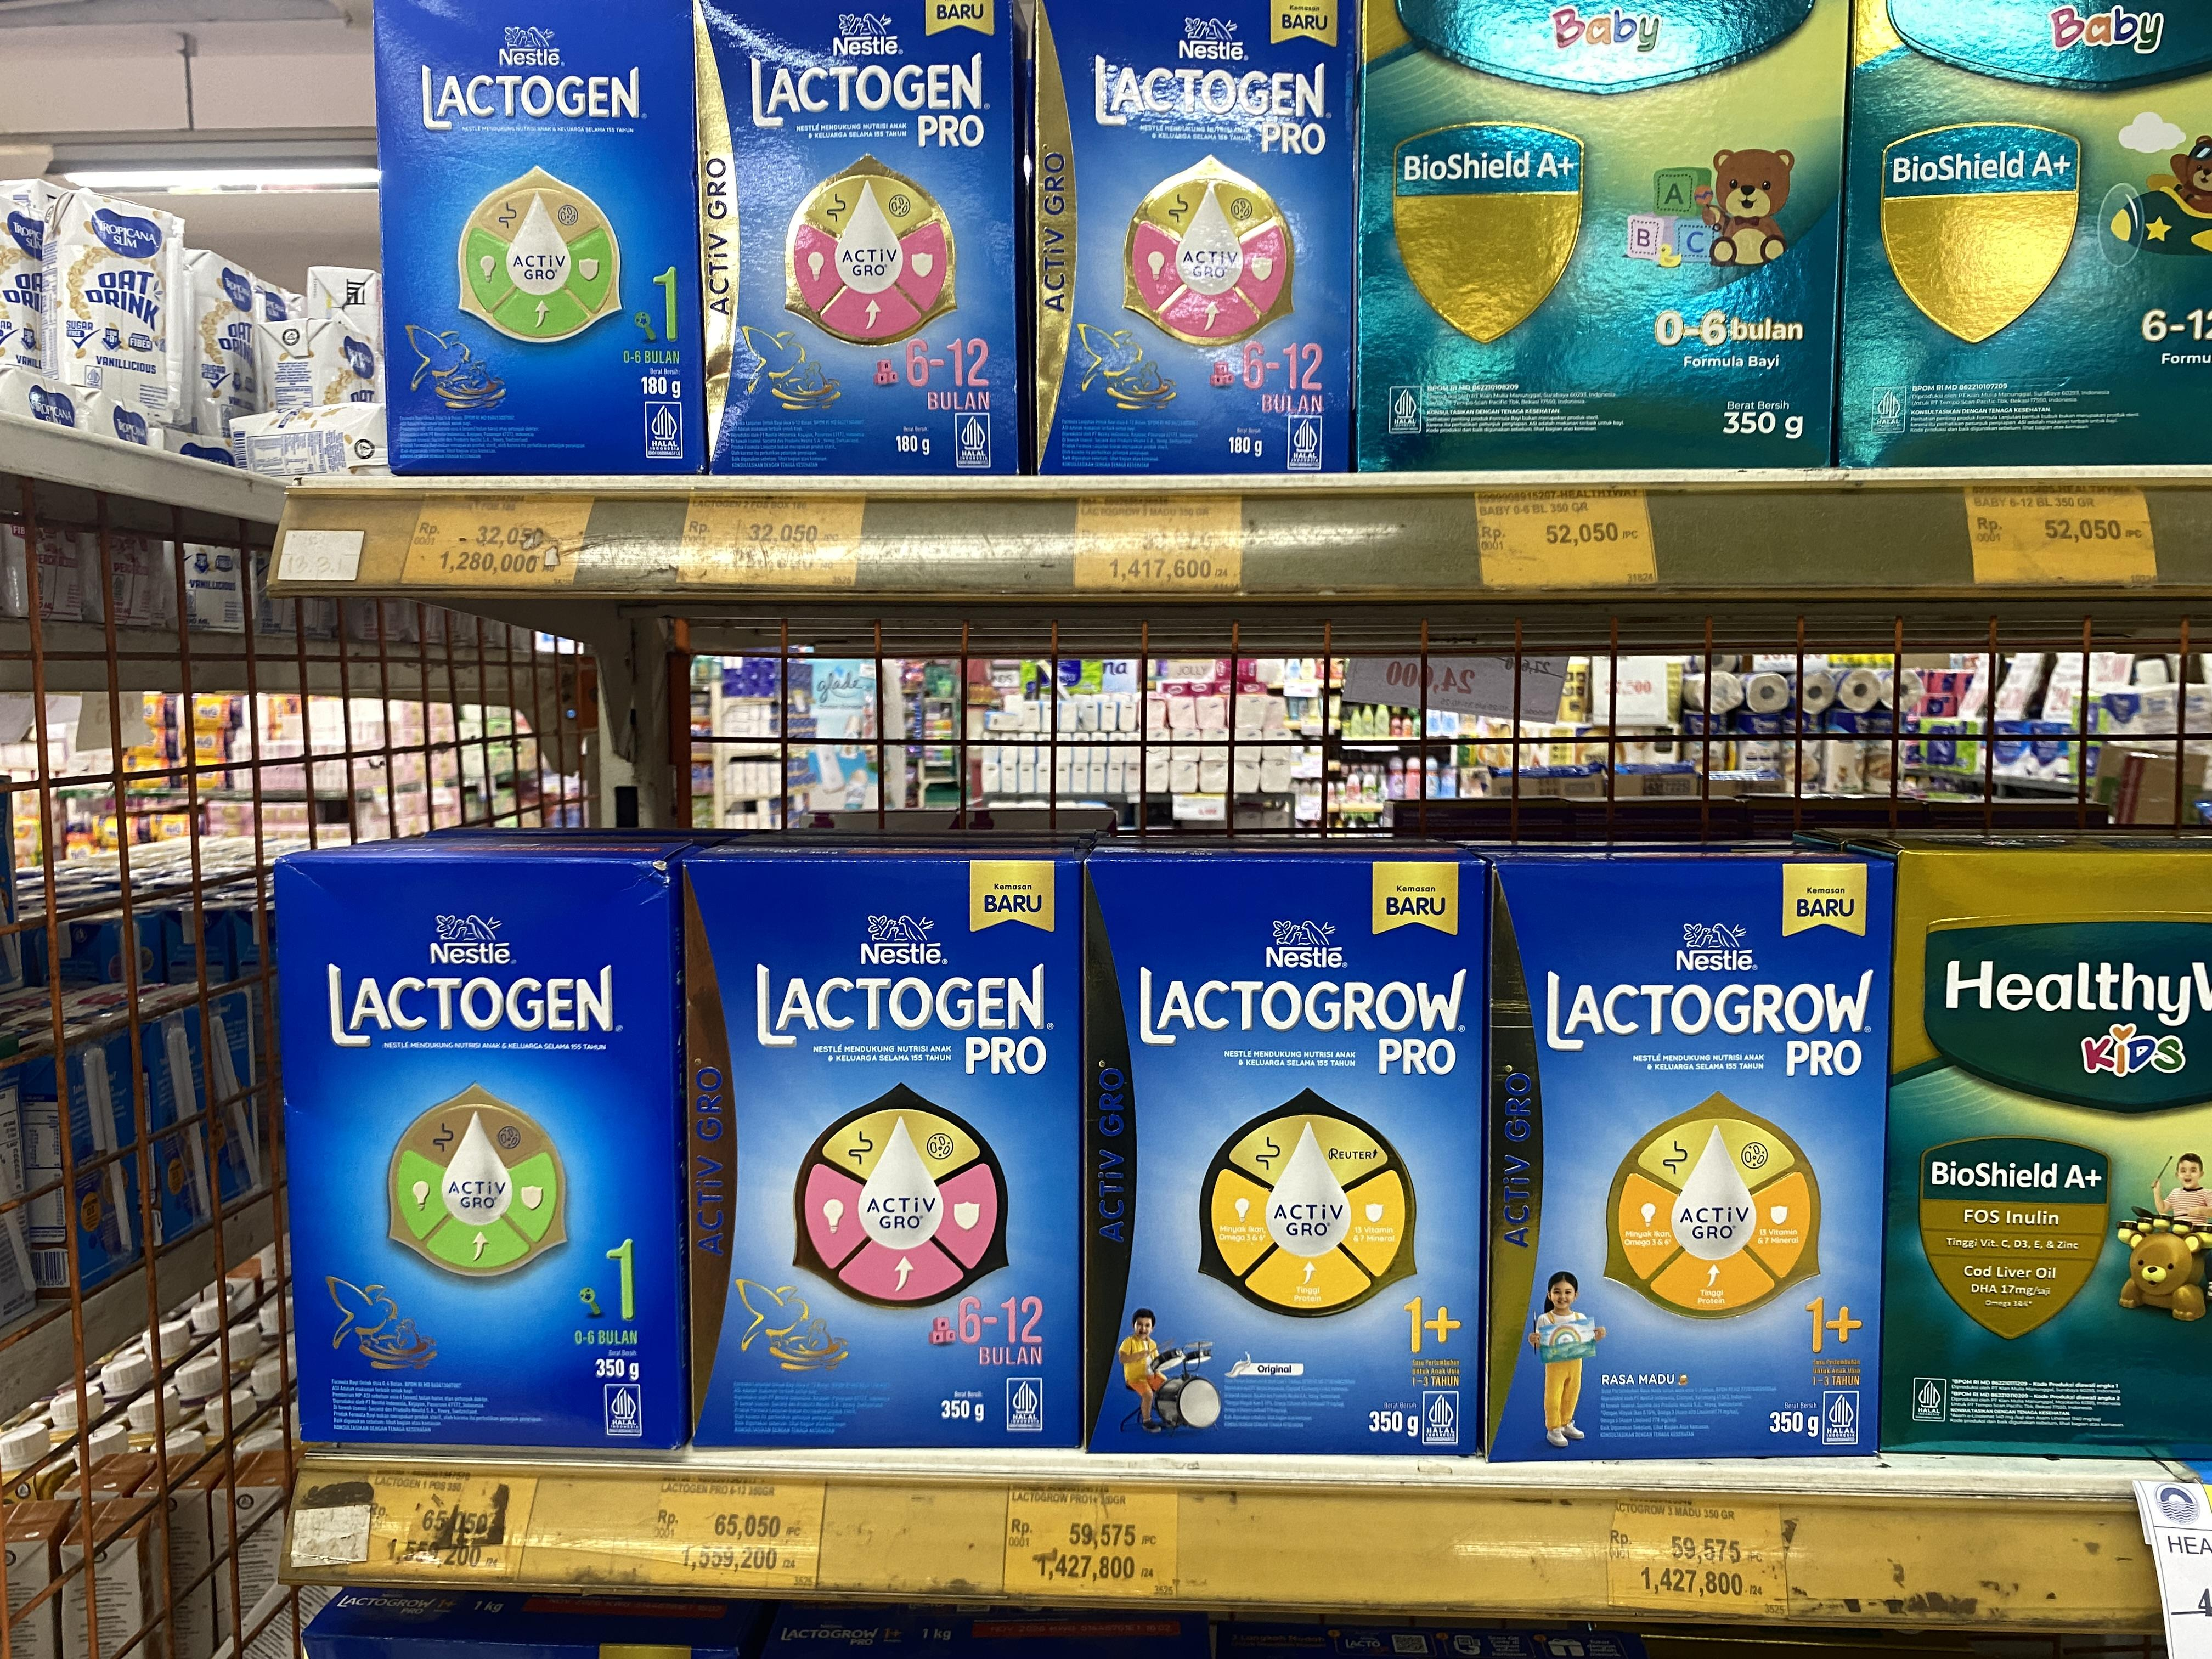LACTOGEN PRO 0-6 mo 40x180g ID: (1475, 856, 1892, 1464), (1073, 856, 1480, 1457), (1022, 0, 1364, 484)
